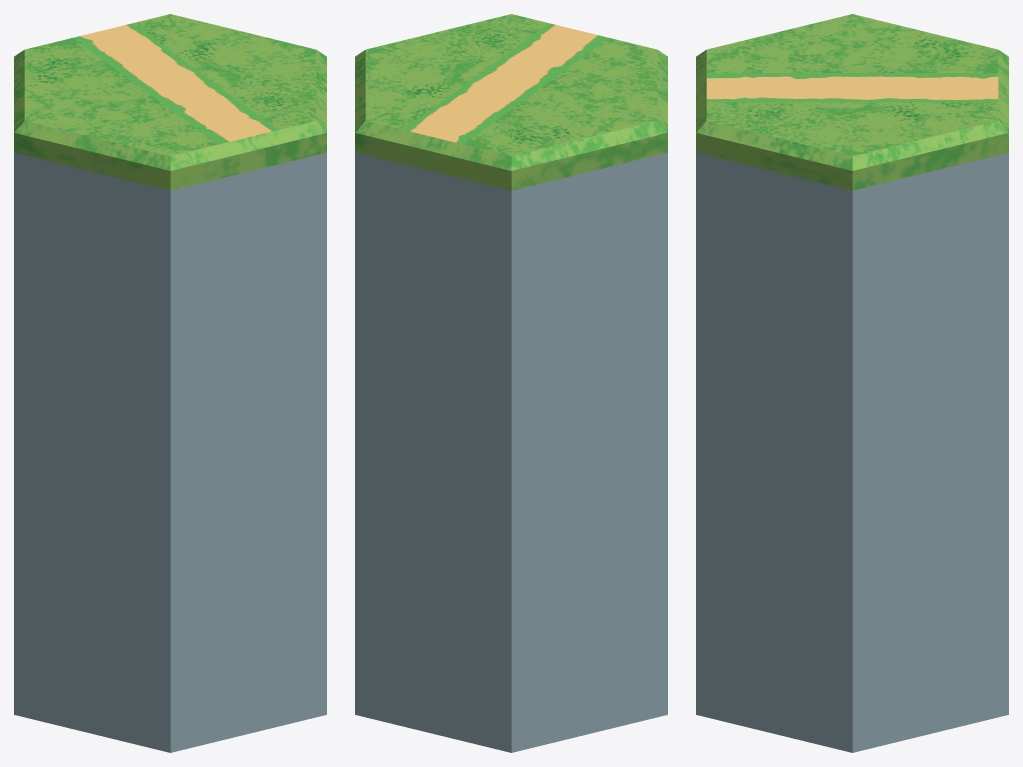
The model's file is TerrainStraightLight.fbx.
3 renders of one model, left to right at view 1: azimuth 30°, elevation 25°; view 2: azimuth 150°, elevation 25°; view 3: azimuth 270°, elevation 25°, orthographic.
Parts seen in each view (by area): view 1: TerrainStraightLight_LOD0; view 2: TerrainStraightLight_LOD0; view 3: TerrainStraightLight_LOD0.
Part boxes in pixels (x1=…): TerrainStraightLight_LOD0: x1=14, y1=14, x2=326, y2=752; TerrainStraightLight_LOD0: x1=355, y1=14, x2=667, y2=752; TerrainStraightLight_LOD0: x1=696, y1=14, x2=1008, y2=752.
Size of what is drawn, in the model's own units: 500 by 904 by 433.
